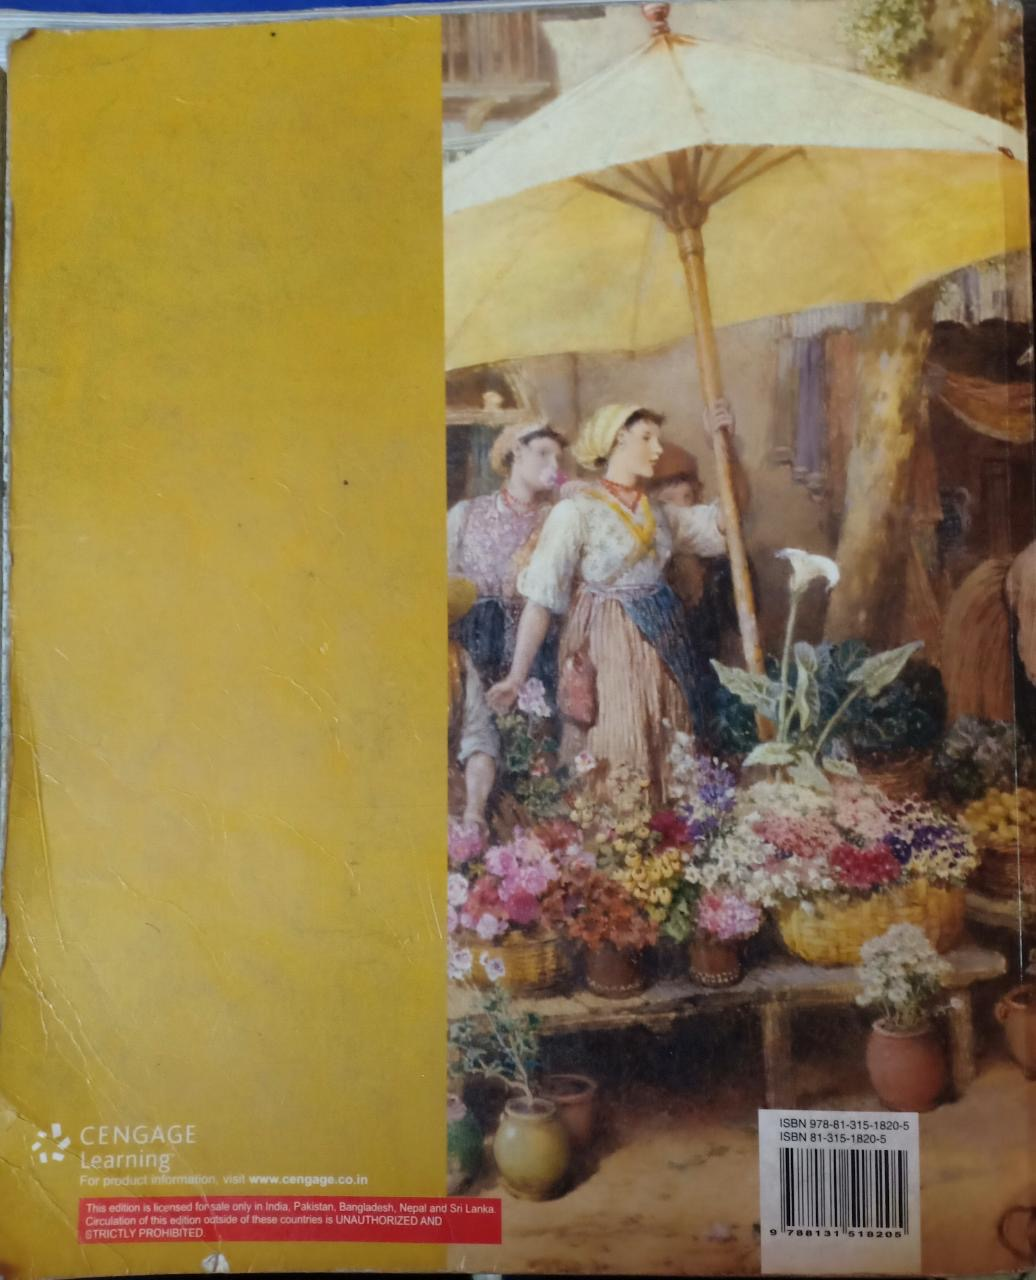barcode: (766, 1107, 921, 1256)
